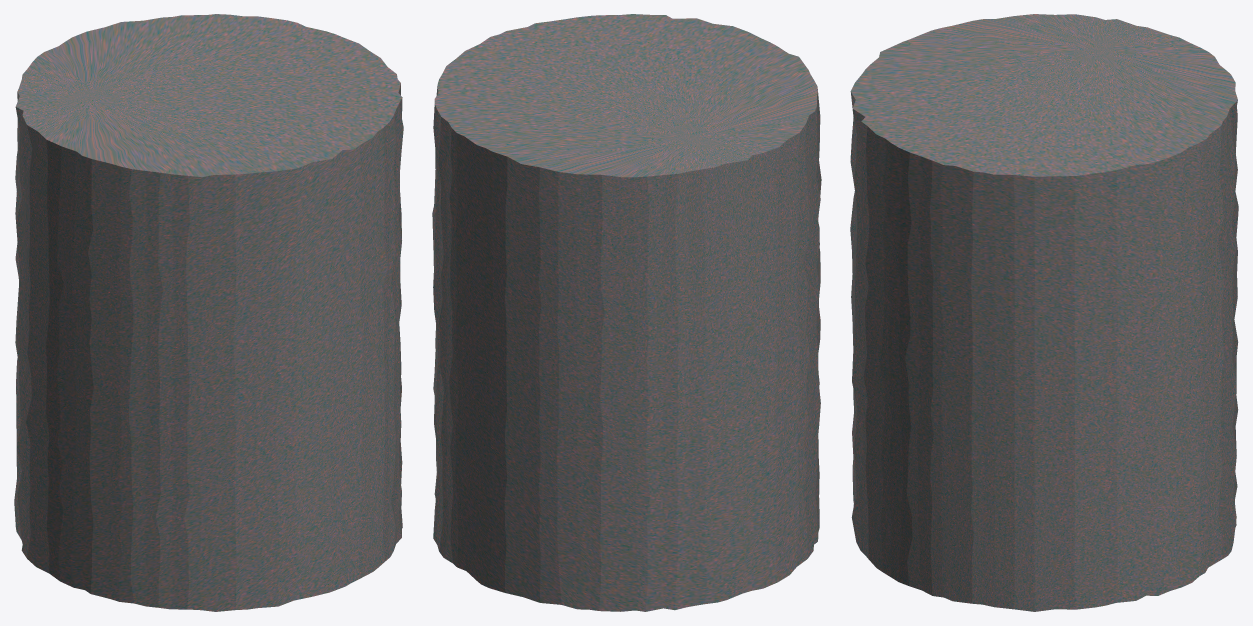
File: barrel_1.dae
3 views of the same model, side by side, from view 1: azimuth 30°, elevation 25°; view 2: azimuth 150°, elevation 25°; view 3: azimuth 270°, elevation 25° (orthographic).
Parts seen in each view (by area): view 1: Cylinder; view 2: Cylinder; view 3: Cylinder.
Part boxes in pixels (x1,y1,x2,y2): Cylinder: (14, 14, 403, 611); Cylinder: (432, 14, 821, 611); Cylinder: (850, 14, 1238, 611).
Bounding box in the file's own units: 0.8173 × 0.8116 × 1.
